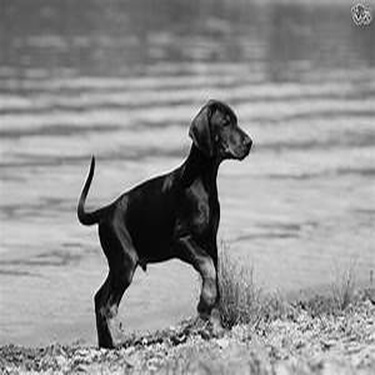dog: (56, 84, 268, 359)
